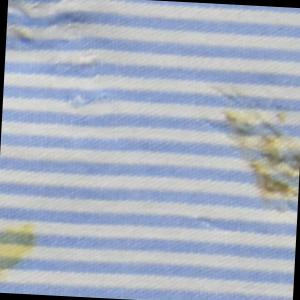Damage: (3, 1, 116, 113), (192, 212, 230, 238)
Oil Stain: (214, 106, 300, 217)
Stain: (1, 220, 38, 287)
